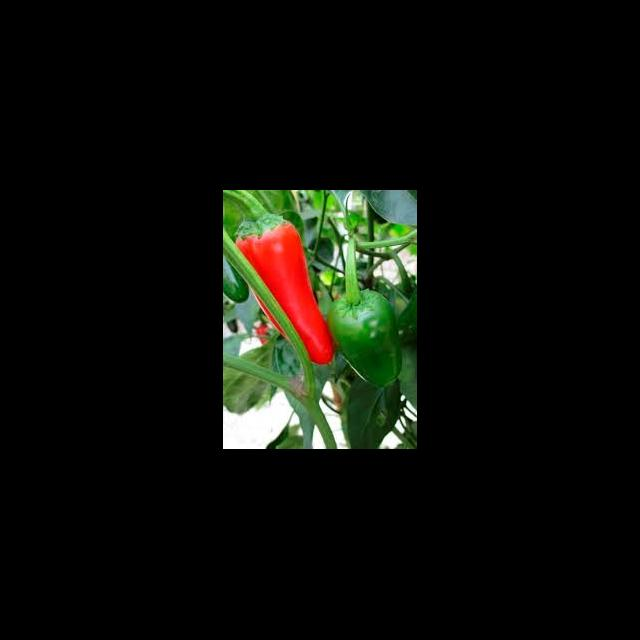chili_pepper: (223, 220, 335, 366), (327, 294, 402, 388)
